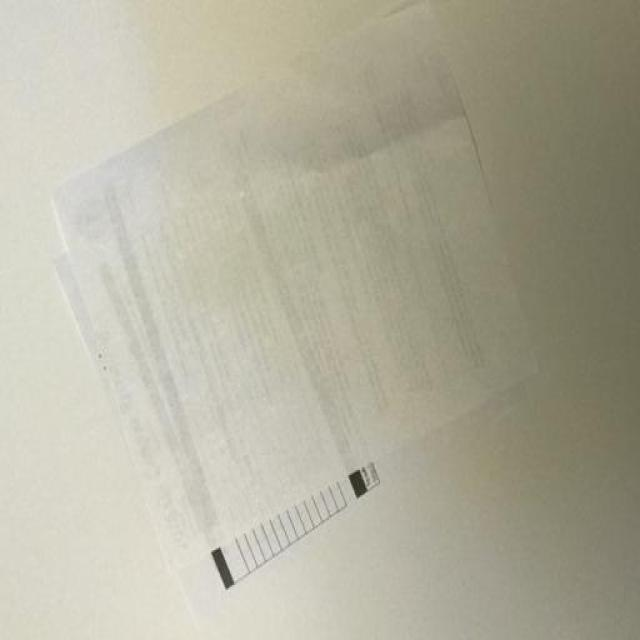paper: (48, 3, 540, 622)
